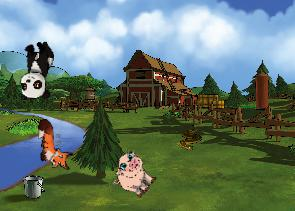fox: (36, 118, 73, 171)
panda: (18, 39, 54, 101)
pig: (106, 147, 162, 202)
